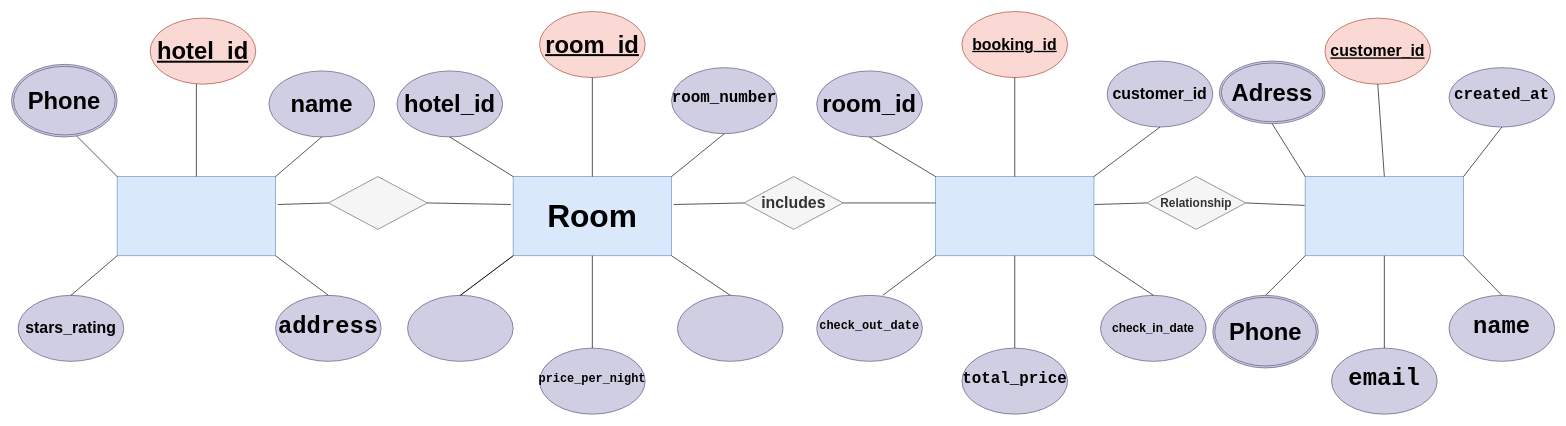
Some shapes in this 1566 by 426 pixel diagram are drawn without their labels. Here are the shapes that lost their labels. From the top down, the centre of each, then its label:
At (x=196, y=216): "Hotel".
At (x=377, y=202): "has".
At (x=1014, y=216): "Booking".
At (x=1384, y=216): "customer".
At (x=460, y=328): "room_type".
At (x=730, y=328): "is_available".
